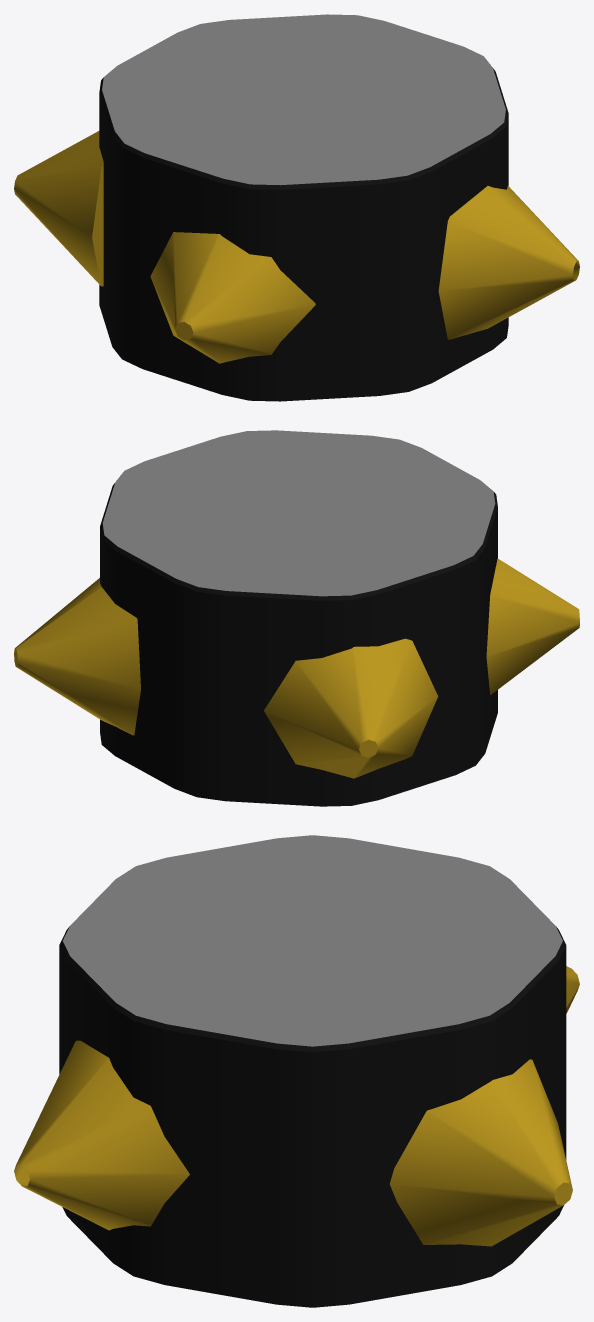
File: BodySpikyRoll.fbx
The picture shows the model from 3 angles, top to bottom: view 1: azimuth 30°, elevation 25°; view 2: azimuth 150°, elevation 25°; view 3: azimuth 270°, elevation 25°; orthographic projection. The views are drawn at different scales.
Visible parts, largest first — view 1: Object002; view 2: Object002; view 3: Object002.
Part boxes in pixels (x1,y1,x2,y2): Object002: (14, 14, 579, 401); Object002: (14, 430, 579, 806); Object002: (14, 835, 579, 1307).
Bounding box in the file's own units: 86.58 × 44.25 × 87.4.
